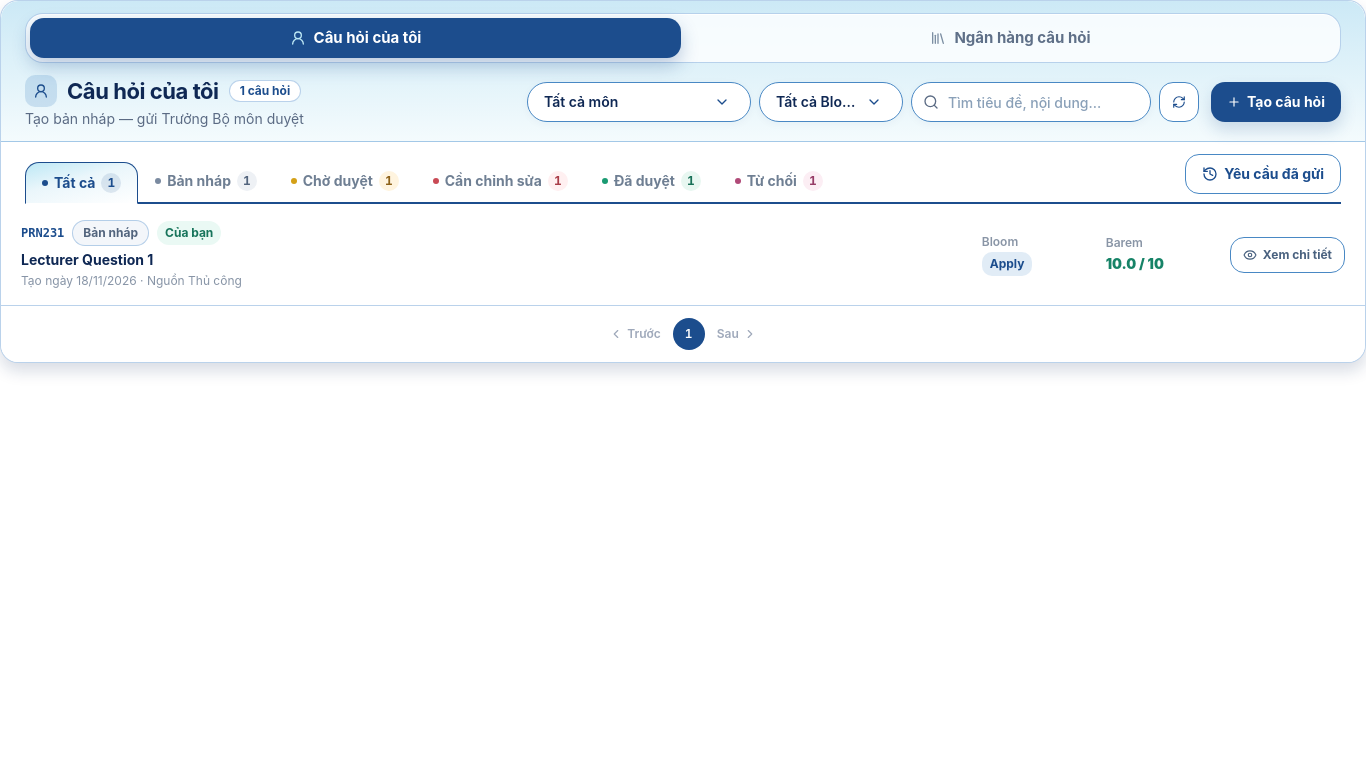
Test case: QuestionStudioPage review queue & batch approval › shows reviewer feedback only for decided questions (DRAFT)
The width and height of the screenshot is (1366, 768).
Click the heading "Lecturer Question 1".
click(87, 260)  # box [21, 251, 153, 268]
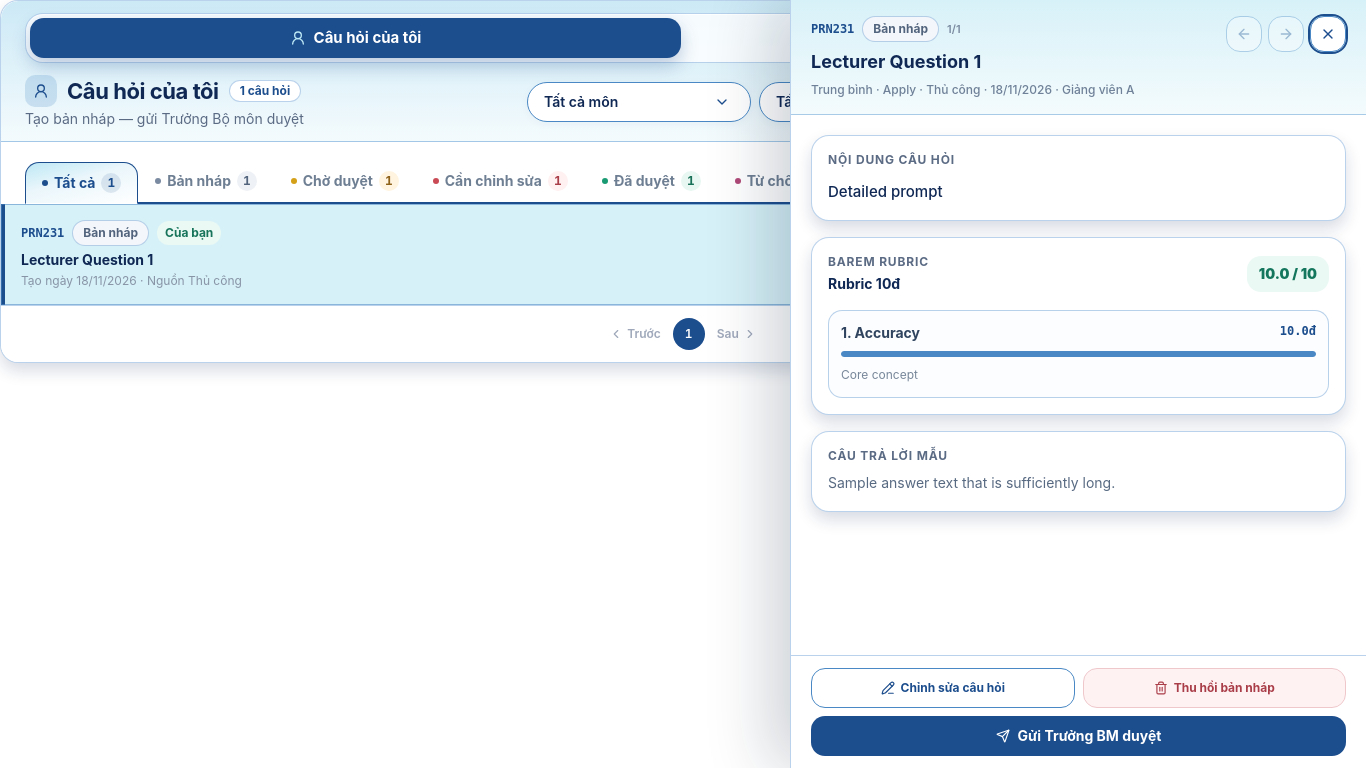
Now the text "Detailed prompt" is shown, box [828, 182, 942, 201]
